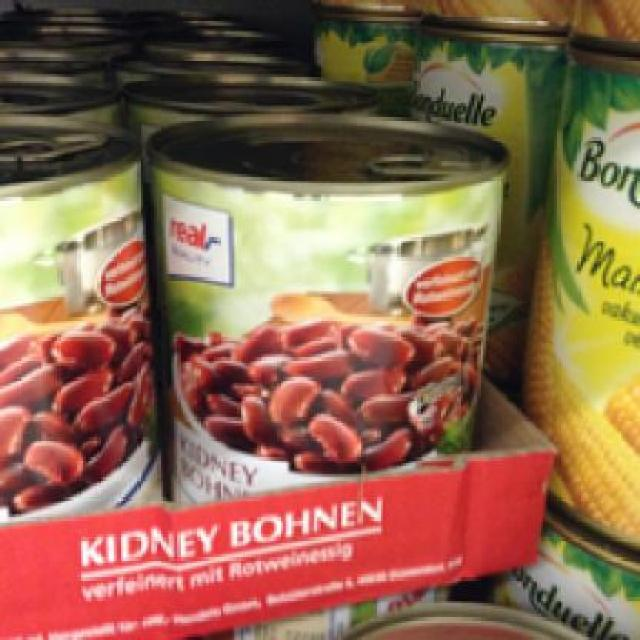Beans: (145, 111, 506, 518), (3, 114, 146, 543)
